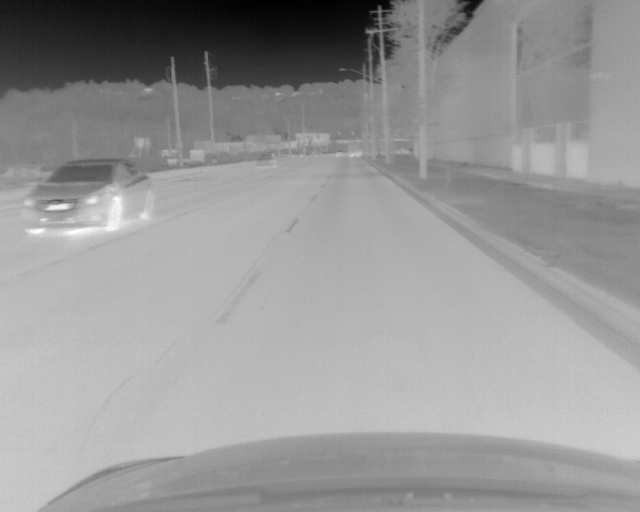car: (23, 158, 155, 236), (254, 153, 279, 168)
